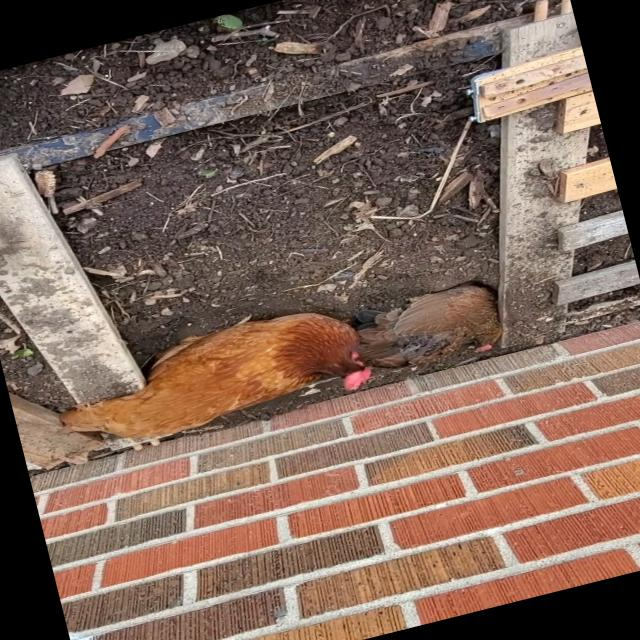stand bath: (53, 284, 402, 464), (338, 264, 515, 394)
